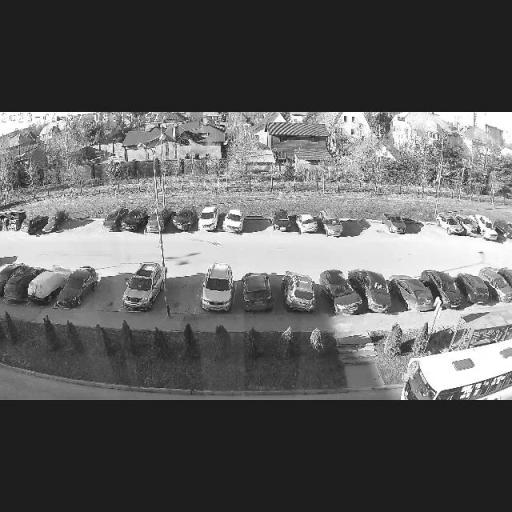busy: (116, 262, 166, 312), (194, 260, 241, 312), (47, 266, 100, 312), (355, 272, 405, 315), (321, 272, 367, 316), (280, 273, 325, 314), (22, 267, 68, 306), (238, 274, 280, 312), (426, 272, 468, 310), (395, 277, 440, 312), (0, 263, 32, 305), (455, 274, 494, 306), (113, 203, 151, 234), (482, 266, 512, 304), (472, 216, 509, 243), (435, 213, 474, 237), (379, 214, 418, 236), (32, 213, 70, 235), (166, 207, 198, 233), (20, 210, 48, 236), (219, 209, 247, 234), (196, 206, 223, 230), (321, 213, 348, 237), (143, 209, 169, 233), (270, 211, 296, 232), (295, 214, 321, 234), (493, 220, 512, 240), (498, 346, 512, 360)
free: (165, 289, 200, 309), (94, 286, 124, 308), (64, 212, 86, 238), (360, 215, 382, 239), (246, 214, 269, 236), (419, 216, 442, 238), (340, 218, 361, 238), (406, 215, 422, 236), (88, 217, 104, 236)
